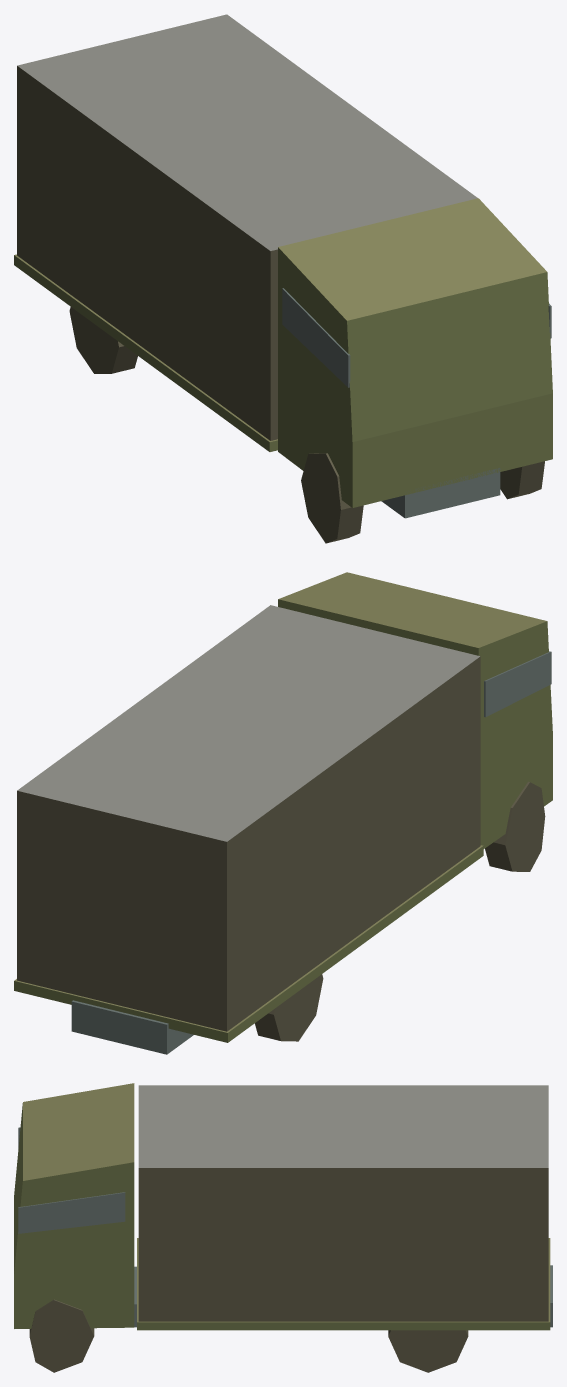
File: SM_CocheCivil_Camion_v3_LOD1.fbx
3 renders of one model, top to bottom at view 1: azimuth 30°, elevation 25°; view 2: azimuth 150°, elevation 25°; view 3: azimuth 270°, elevation 25°, orthographic. The views are drawn at different scales.
Visible parts, largest first — view 1: SM_coche_civil_v23_LOD1; view 2: SM_coche_civil_v23_LOD1; view 3: SM_coche_civil_v23_LOD1.
Part boxes in pixels (<box>): SM_coche_civil_v23_LOD1: <box>14,14,552,543</box>; SM_coche_civil_v23_LOD1: <box>14,572,552,1054</box>; SM_coche_civil_v23_LOD1: <box>14,1083,552,1372</box>.
Size of the model in its own units: 2.24 by 2.6 by 6.05.
